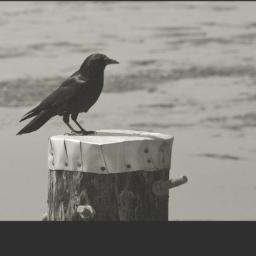Crow: (14, 50, 121, 140)
